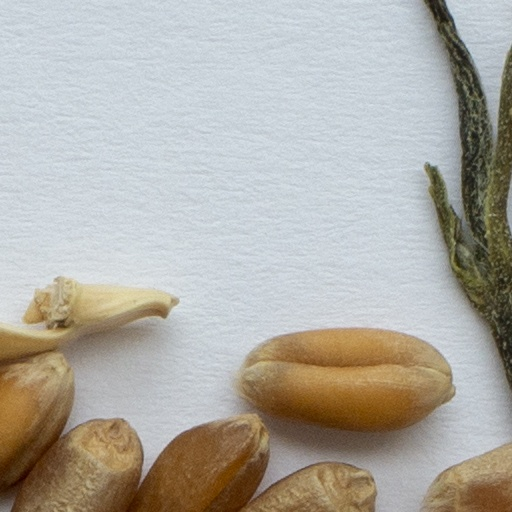Peel-poly: (422, 0, 511, 391), (0, 276, 181, 366)
Wheat-grain-damaged-poly: (420, 439, 511, 511)
Wheat-grain-poly: (234, 322, 459, 436)
